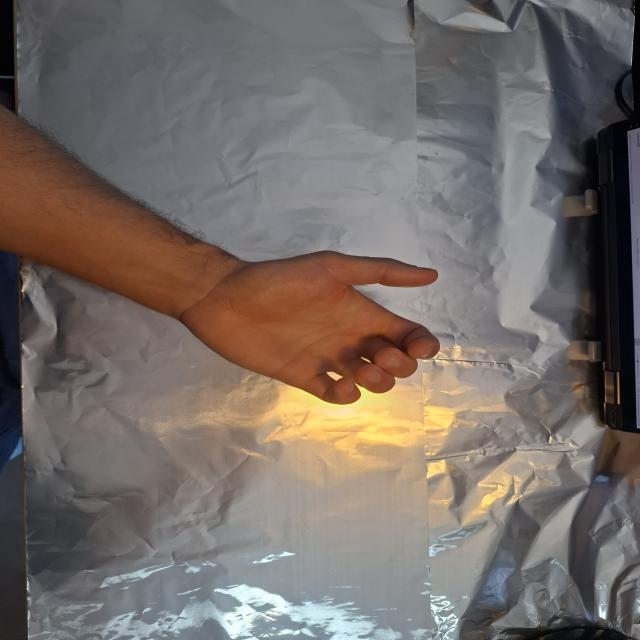glove_off: (174, 249, 442, 407)
